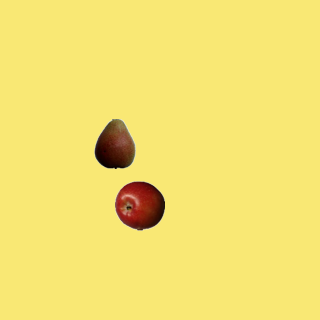Apple Braeburn: (114, 180, 164, 230)
Pear Forelle: (89, 118, 139, 168)
